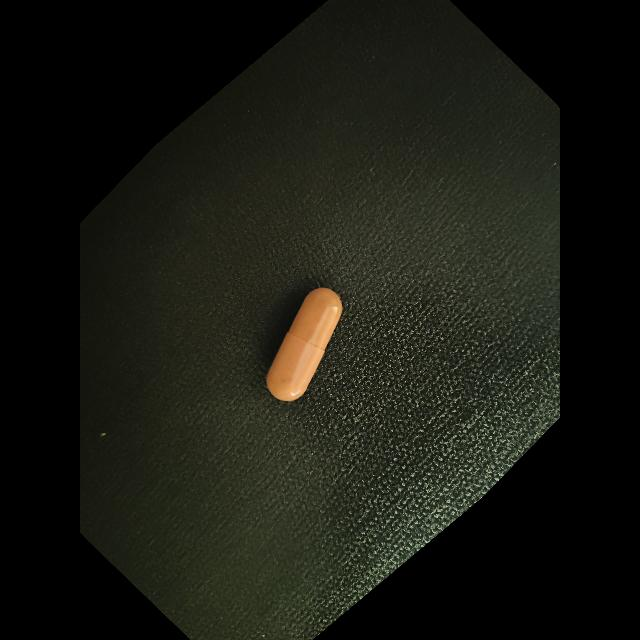Intact Capsule: (266, 288, 342, 401)
